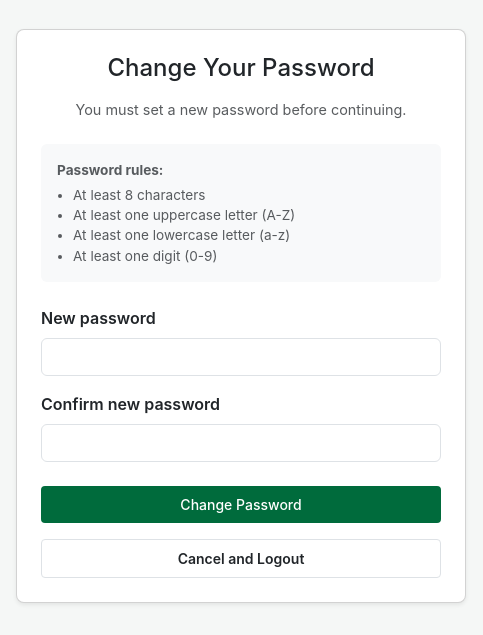
it: shows inline error without submitting when passwords do not match
This screenshot has width=483, height=635.
Type "NewPass@1" into the password field labelled "New password" at (241, 357), box left=41, top=338, right=441, bottom=376
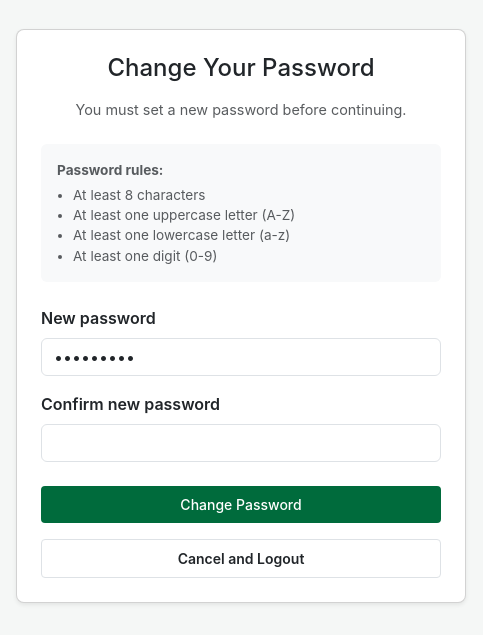
Type "DifferentPass@1" into the password field labelled "Confirm new password" at (241, 443), box left=41, top=424, right=441, bottom=462
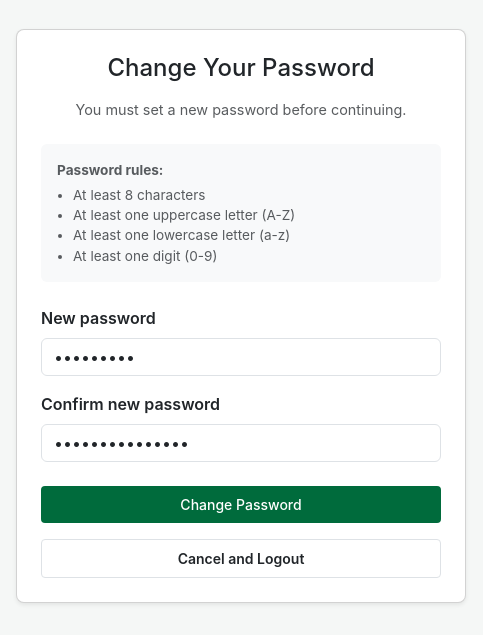
Click the button "Change Password" at (241, 505), box left=41, top=486, right=441, bottom=523
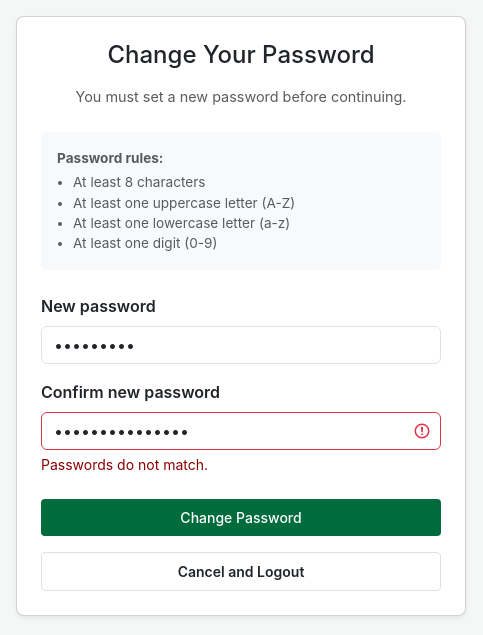
Expected: the text "Passwords do not match." is shown, left=41, top=456, right=208, bottom=473
